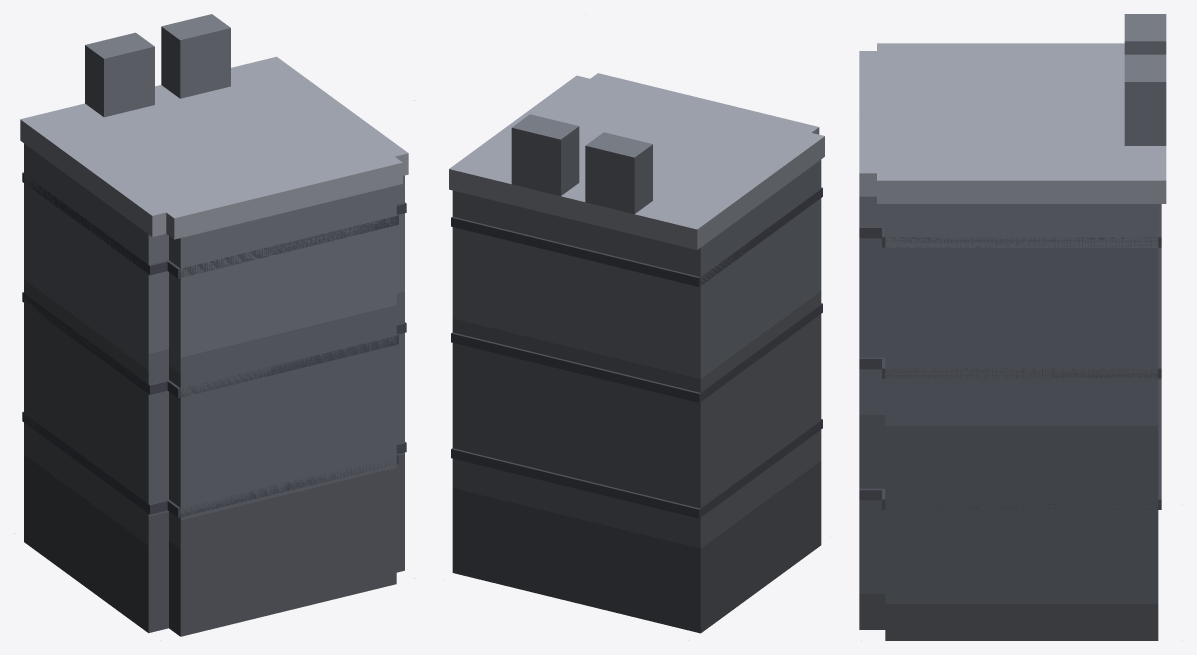
The model's file is perimeter_wall_metal_tee.glb.
3 renders of one model, left to right at view 1: azimuth 30°, elevation 25°; view 2: azimuth 150°, elevation 25°; view 3: azimuth 270°, elevation 25°, orthographic. The views are drawn at different scales.
Size of the model in its own units: 2.02 by 3.6 by 2.01.
Materials: 1 (1 with a texture image).
